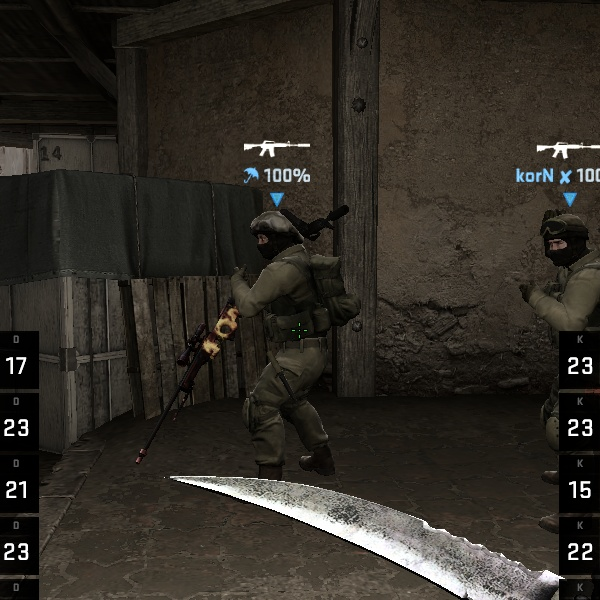ct_body: (211, 202, 353, 479)
ct_head: (532, 205, 600, 275), (240, 207, 301, 265)
